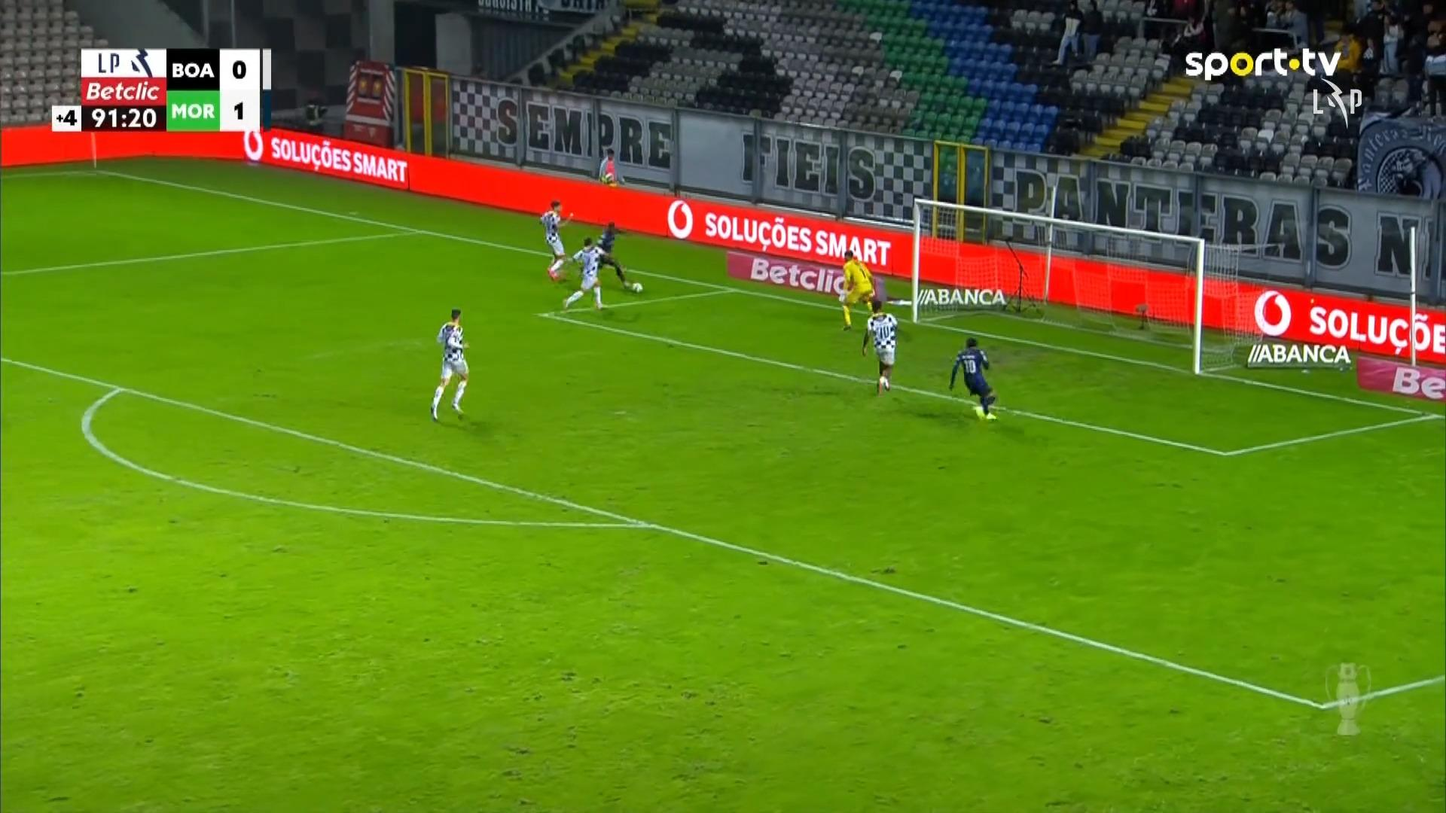ball: (631, 282, 642, 294)
goalkeeper: (837, 248, 880, 330)
player: (429, 307, 470, 422), (948, 336, 998, 421), (561, 236, 615, 309), (861, 300, 898, 395), (539, 199, 574, 282), (594, 220, 631, 289)
